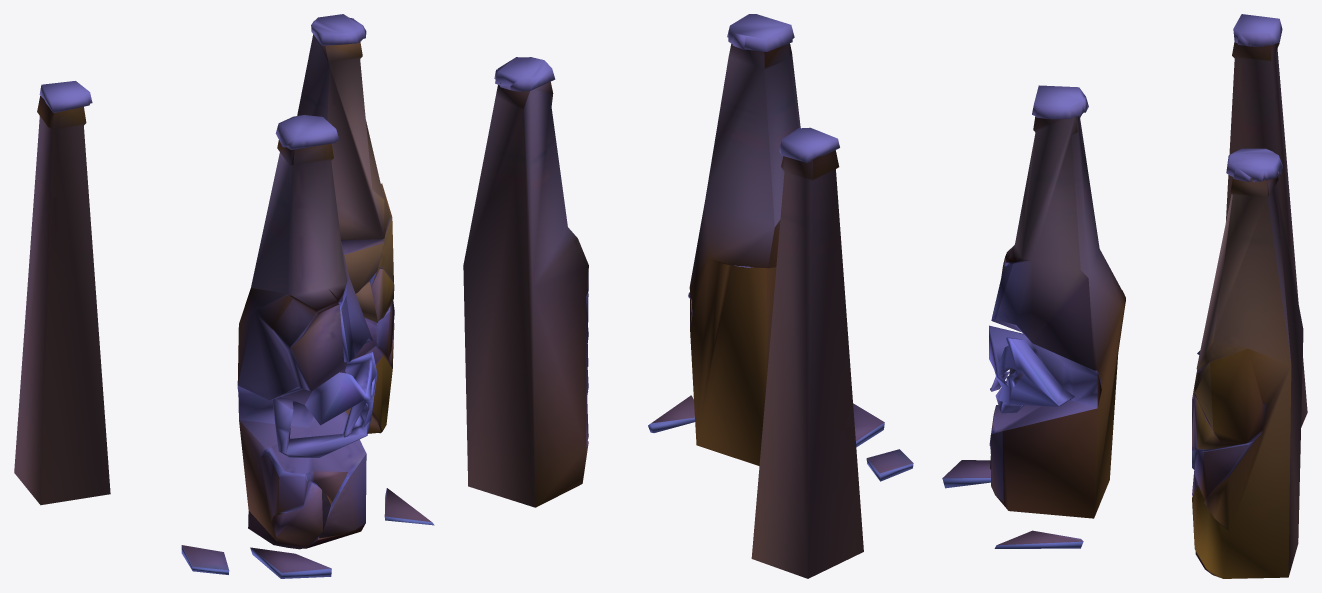
File: model.progressive.glb
3 views of the same model, side by side, from view 1: azimuth 30°, elevation 25°; view 2: azimuth 150°, elevation 25°; view 3: azimuth 270°, elevation 25° (orthographic). The views are drawn at different scales.
Parts seen in each view (by area): view 1: BrokenBeerBottles1; view 2: BrokenBeerBottles1; view 3: BrokenBeerBottles1.
Boxes of the visible parts, box(x1,y1,x2,y2) form: BrokenBeerBottles1: box(14, 14, 434, 578); BrokenBeerBottles1: box(463, 14, 913, 578); BrokenBeerBottles1: box(942, 14, 1307, 578).
Bounding box in the file's own units: 1.77 × 1.9 × 1.54.
1 material, 1 textured.
